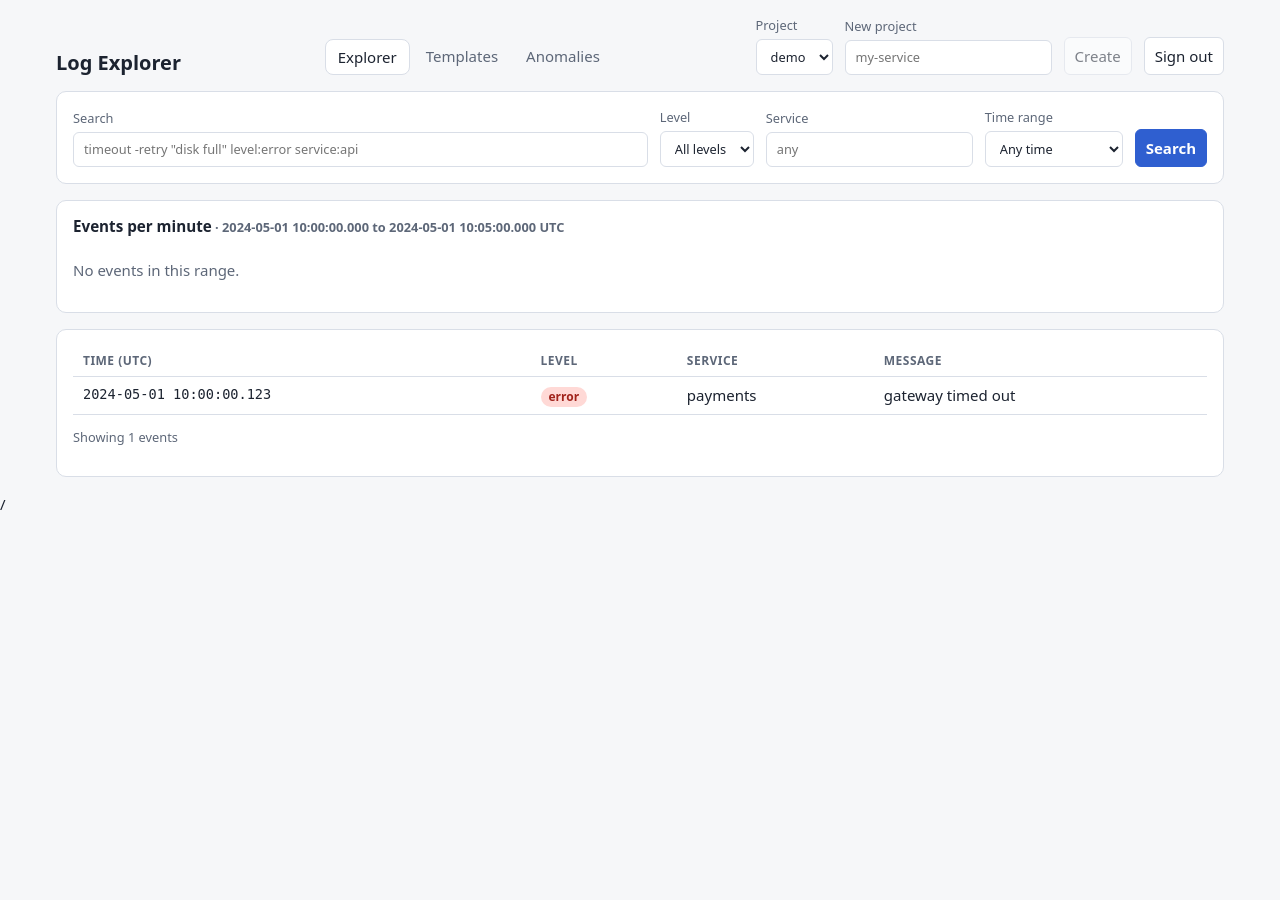
Scenario: detail drawer › opens on click with the full event, and closes with Escape returning focus to the row
Click the text "gateway timed out" at x=640, y=396, box left=73, top=377, right=1207, bottom=415
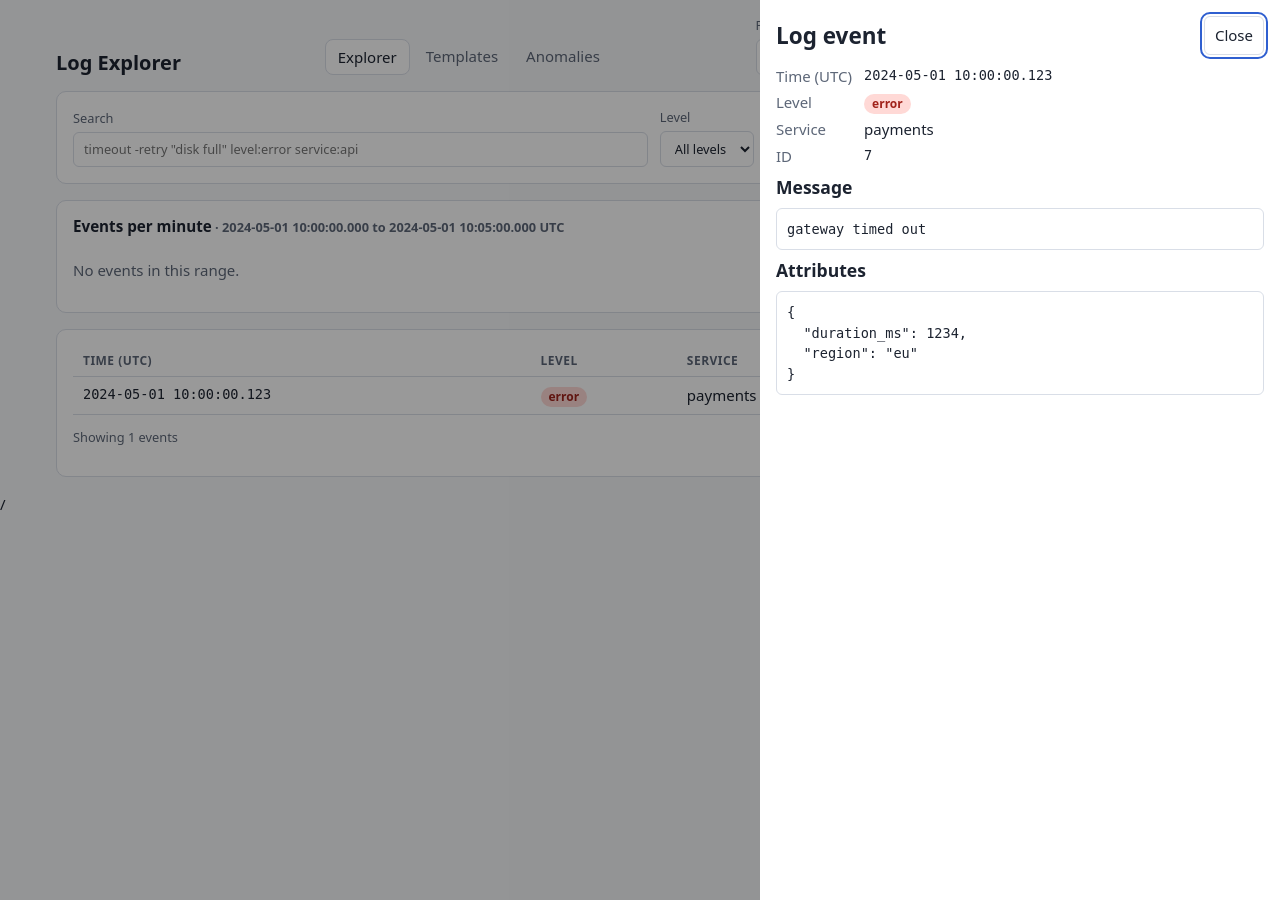
Now the text "gateway timed out" is shown, box left=776, top=208, right=1264, bottom=250
Now the text "payments" is shown, box left=864, top=119, right=934, bottom=139
Now the text "7" is shown, box left=864, top=146, right=872, bottom=162
Press Escape
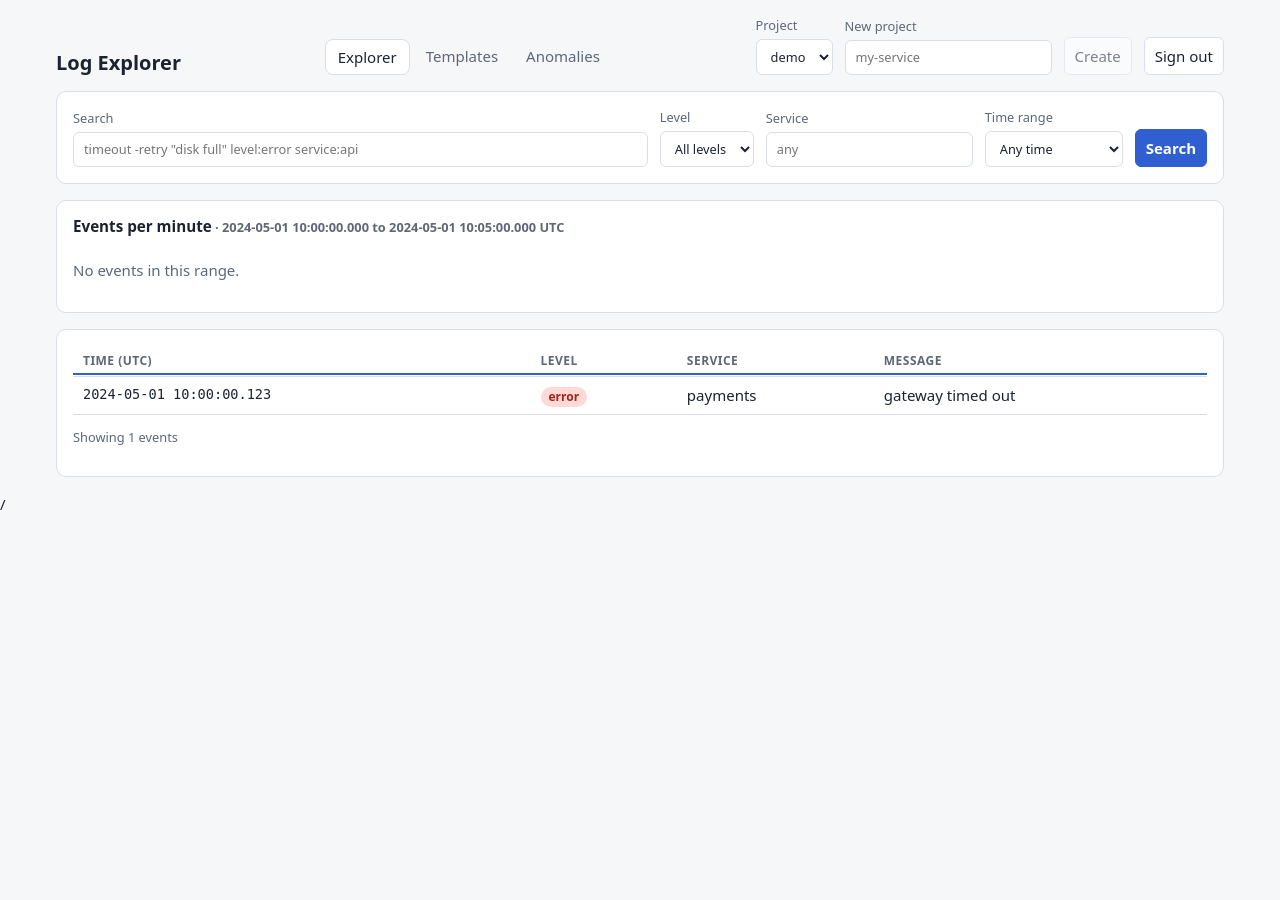
Now the dialog is gone
